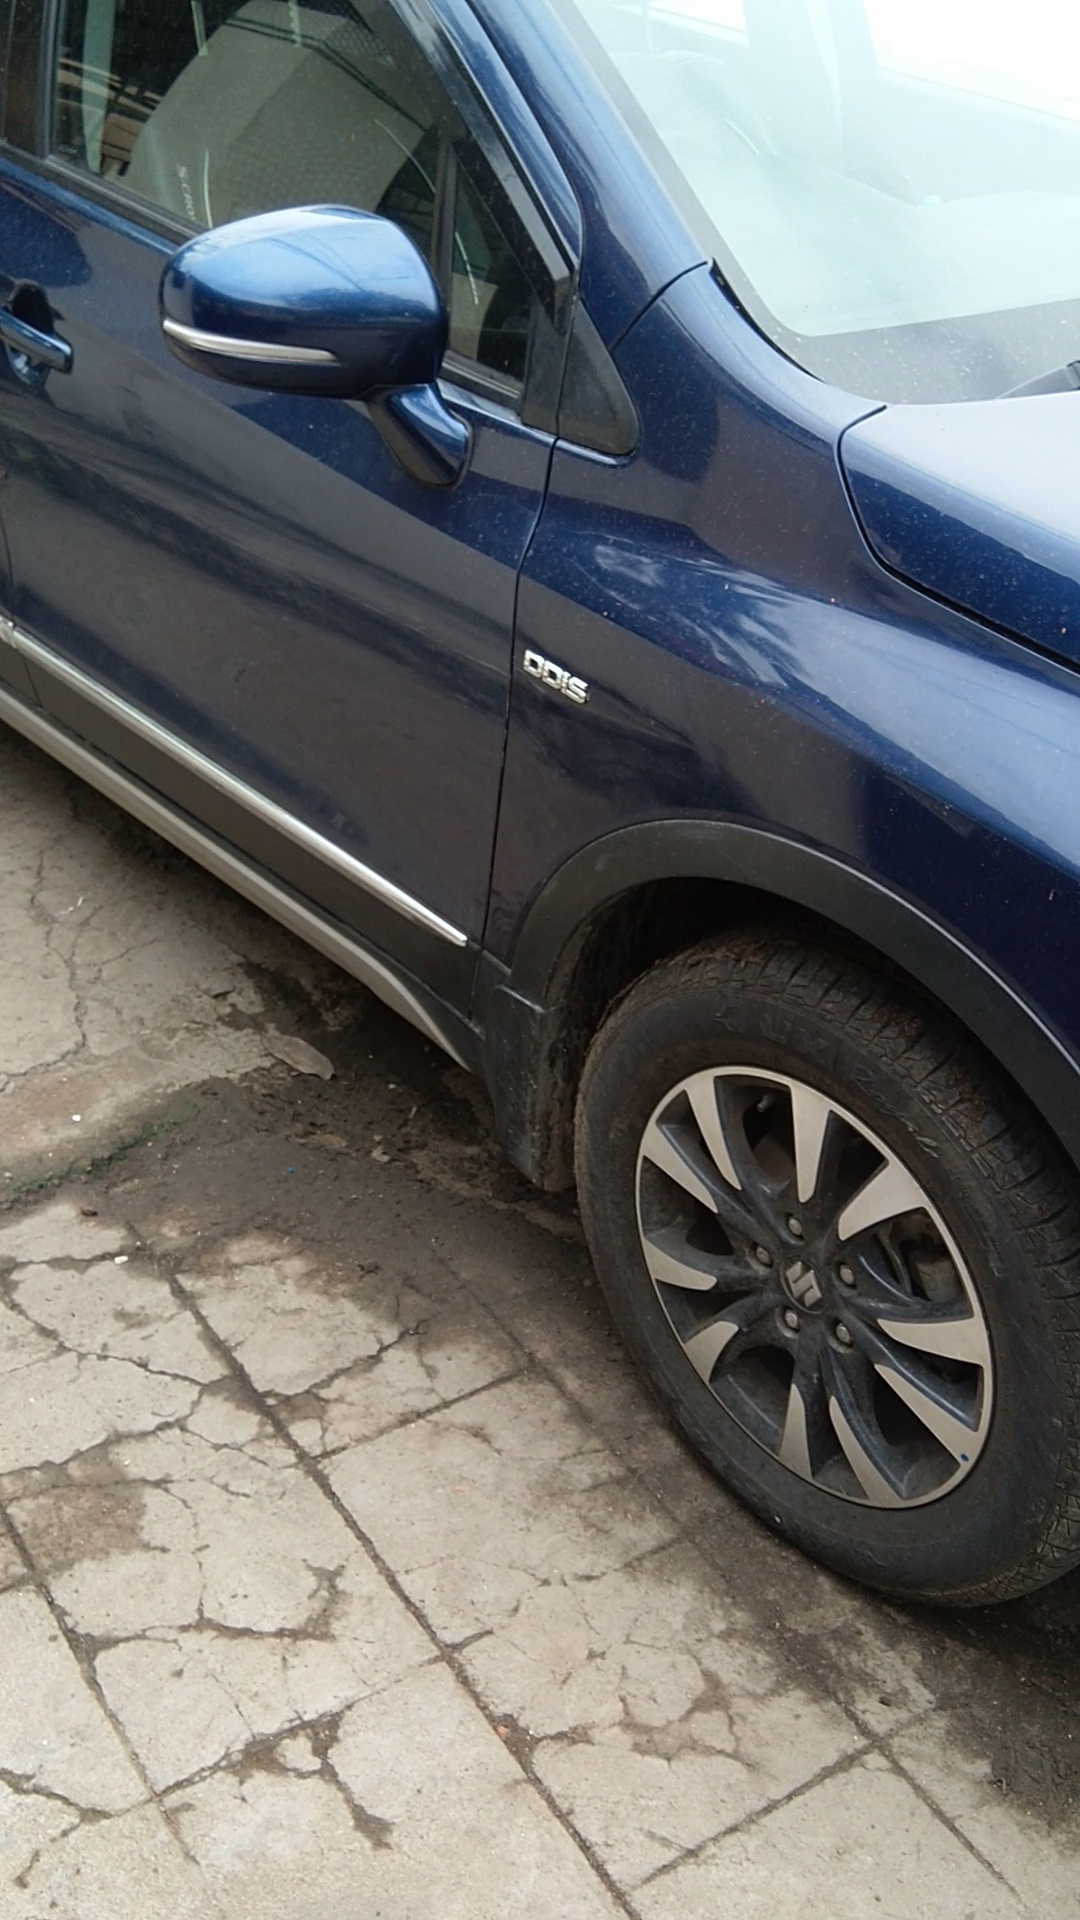alloy_wheel: (576, 940, 1079, 1630)
ovr_mirror: (146, 193, 495, 483)
